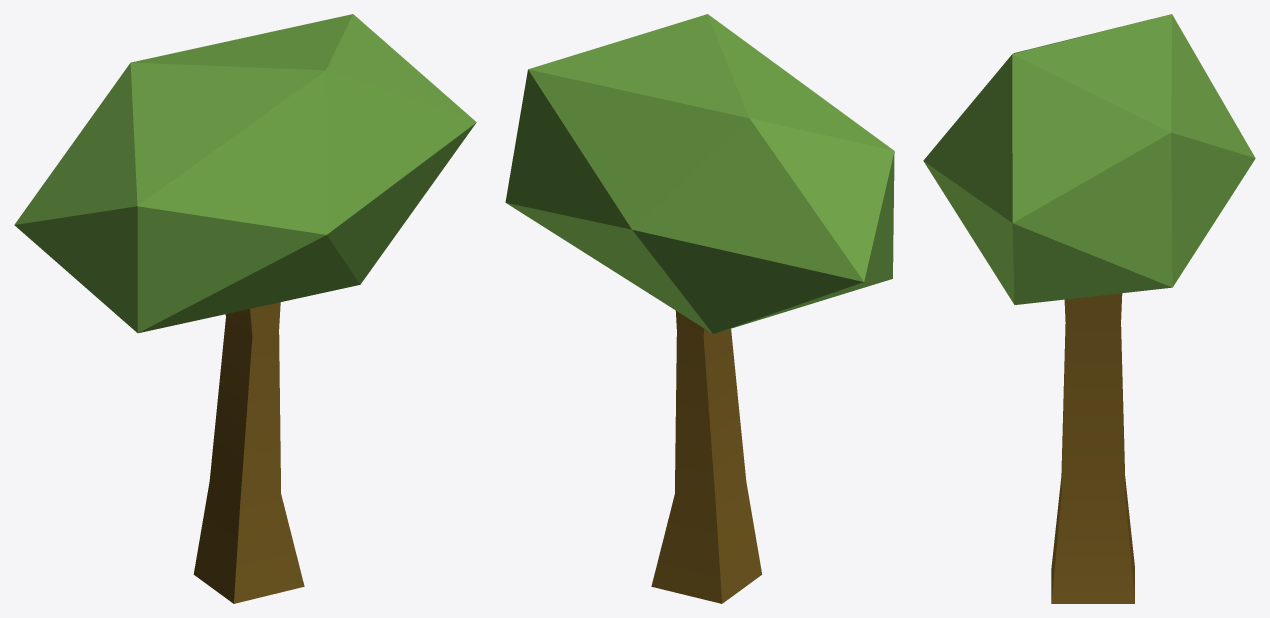
The model's file is Arbol 1.fbx.
The picture shows the model from 3 angles, left to right: view 1: azimuth 30°, elevation 25°; view 2: azimuth 150°, elevation 25°; view 3: azimuth 270°, elevation 25°; orthographic projection. The views are drawn at different scales.
Parts seen in each view (by area): view 1: Arbol_3; view 2: Arbol_3; view 3: Arbol_3.
Part boxes in pixels (<box>): Arbol_3: <box>14,14,476,603</box>; Arbol_3: <box>505,14,894,603</box>; Arbol_3: <box>923,14,1255,603</box>.
Bounding box in the file's own units: 4.29 × 5.64 × 3.08.
